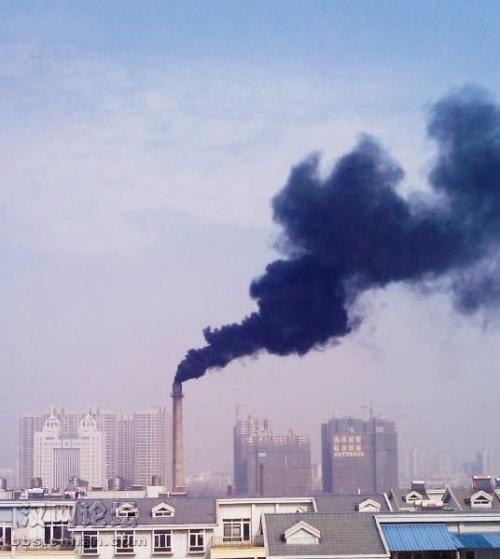smoke: (265, 118, 500, 342)
